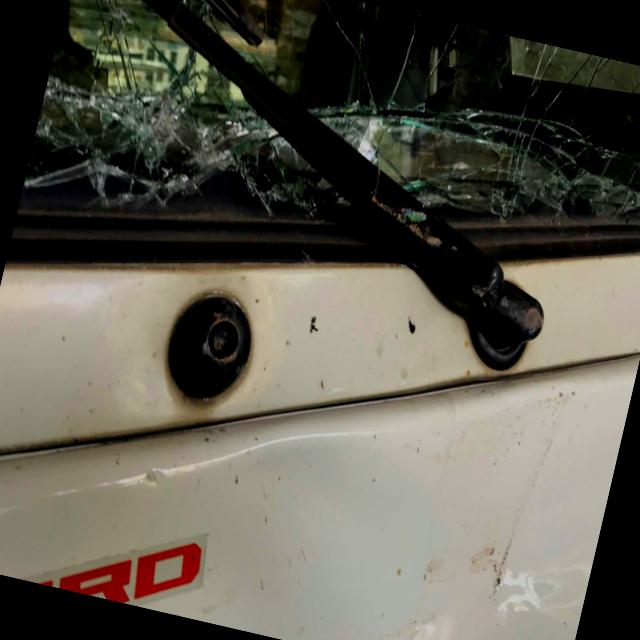Fissure: (518, 41, 568, 124), (555, 49, 613, 120), (417, 17, 456, 80)
Rayure: (453, 522, 524, 593)
